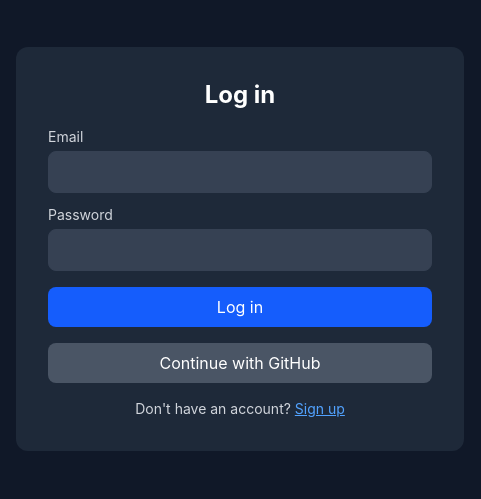
an unverified account is told to verify its email
Type "me@example.com" into the field labelled "Email" at (240, 172), box [48, 151, 432, 193]
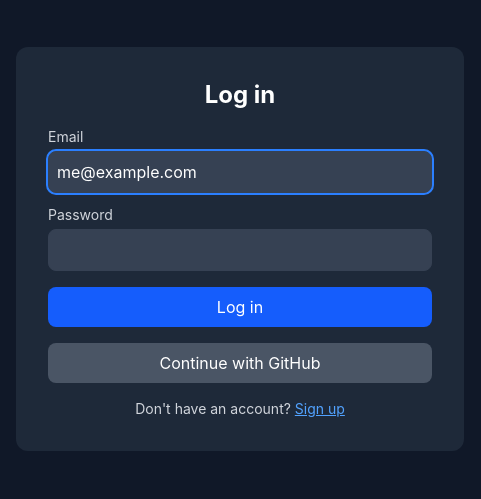
Type "password1" into the password field labelled "Password" at (240, 250), box [48, 229, 432, 271]
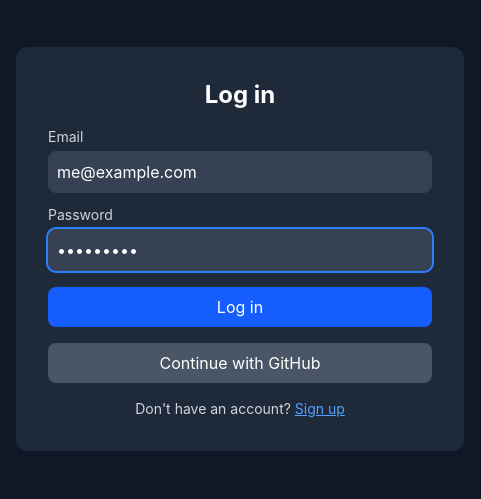
Click the button "Log in" at (240, 307), box [48, 287, 432, 327]
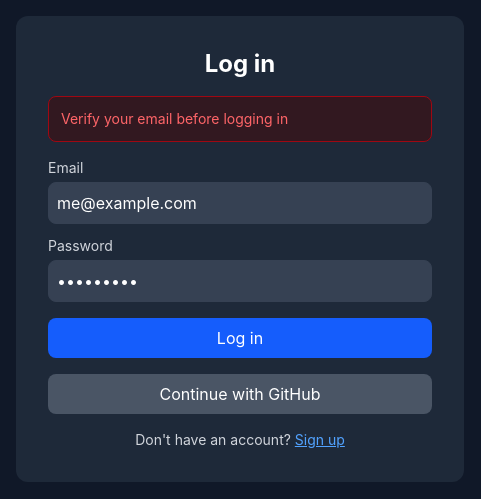
Check: the message reads "Verify your email before logging in", box [61, 110, 288, 127]
